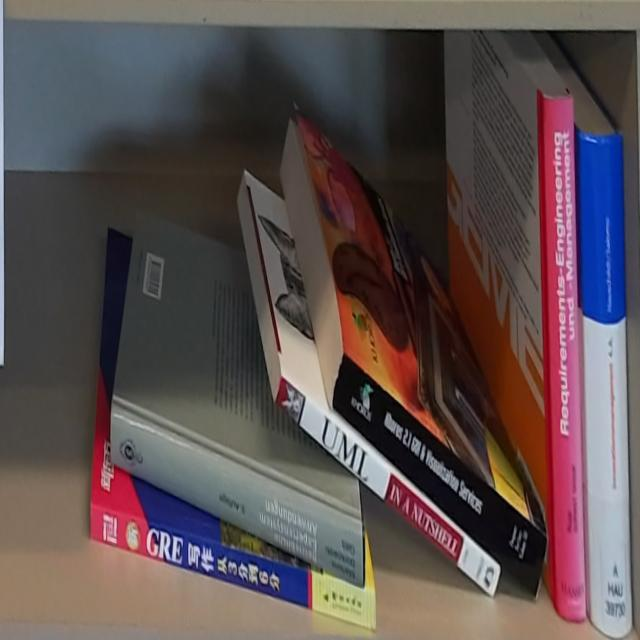Book Spine: (329, 350, 547, 603), (274, 377, 501, 599), (111, 408, 363, 593), (86, 512, 375, 637), (579, 126, 632, 640), (542, 92, 588, 626)
